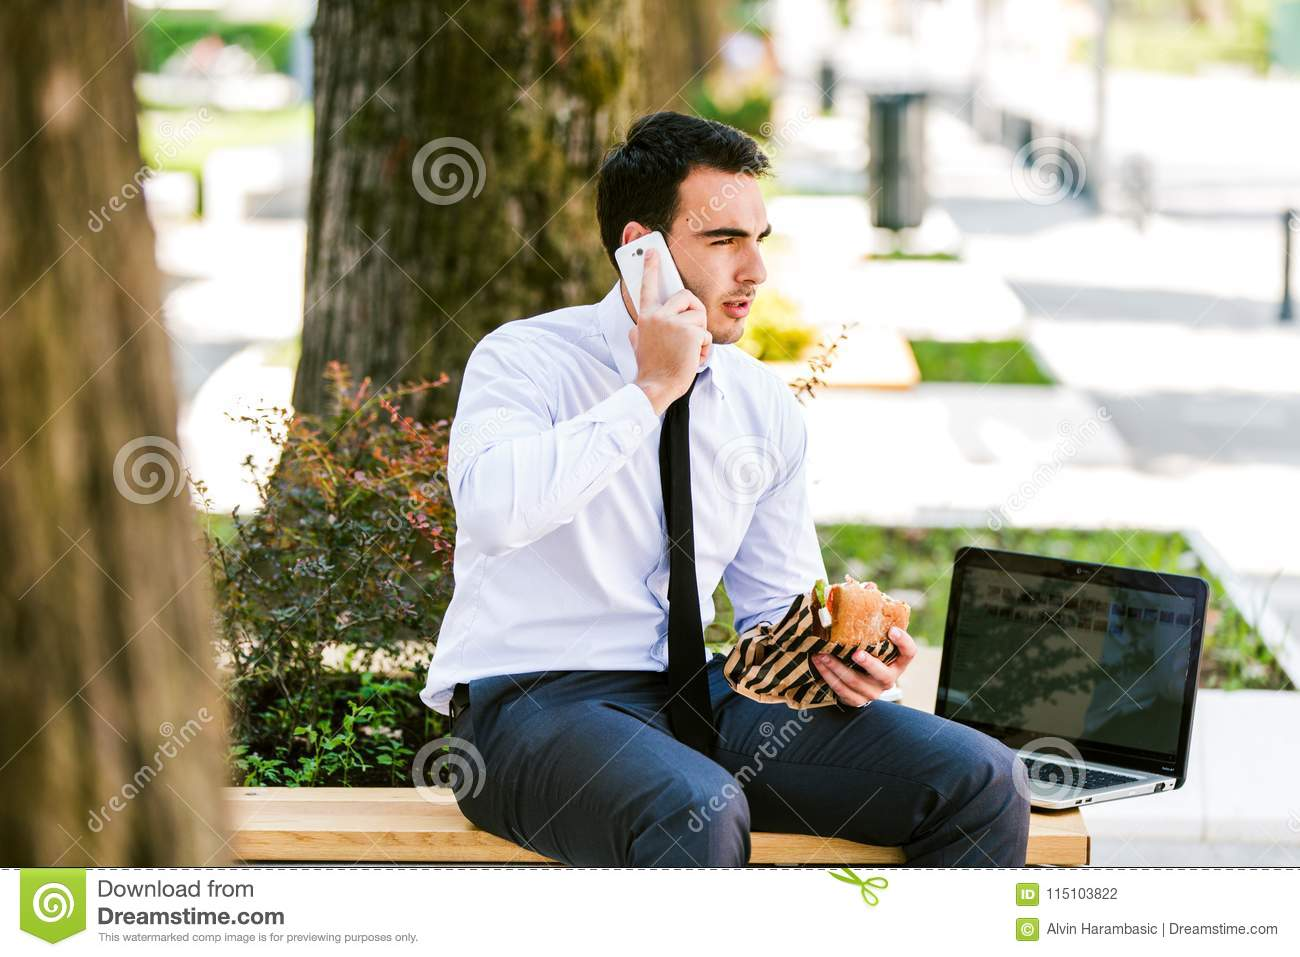phone: (615, 228, 705, 353)
talk: (613, 220, 772, 401)
